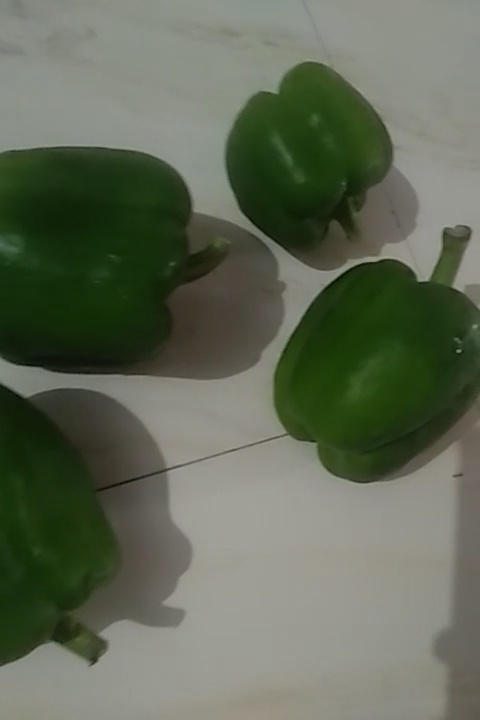capsicum: (271, 238, 479, 476), (1, 132, 198, 370), (1, 383, 144, 667), (218, 58, 389, 256)
